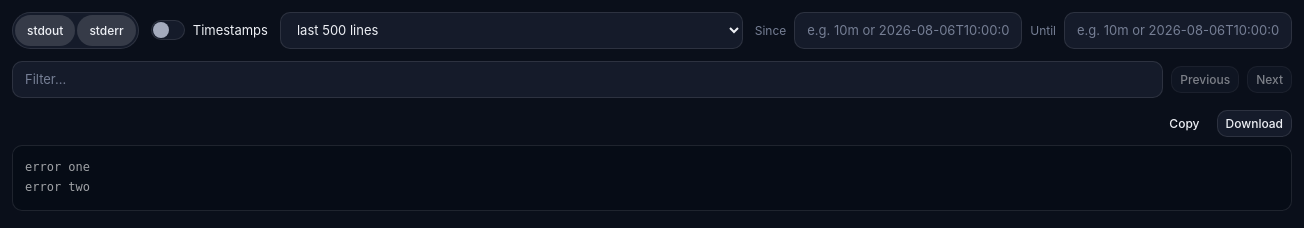
Test: ContainerLogsView (REQ-30, REQ-31) › moves the current match with next and previous
Expected: the text "error one" is shown, [25,160,90,174]
Type "error" into the field named "Search the stream" at (588, 79), box [12,61,1163,98]
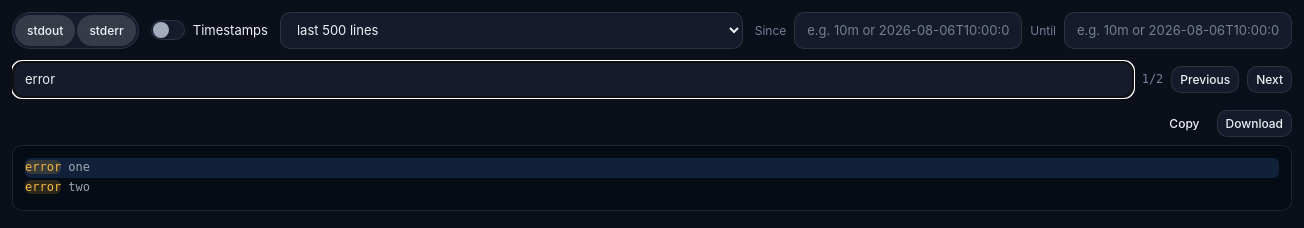
Expected: the text "1/2" is shown, [1142,71,1163,88]
Click the button "Next" at (1270, 79), box [1247,66,1292,93]
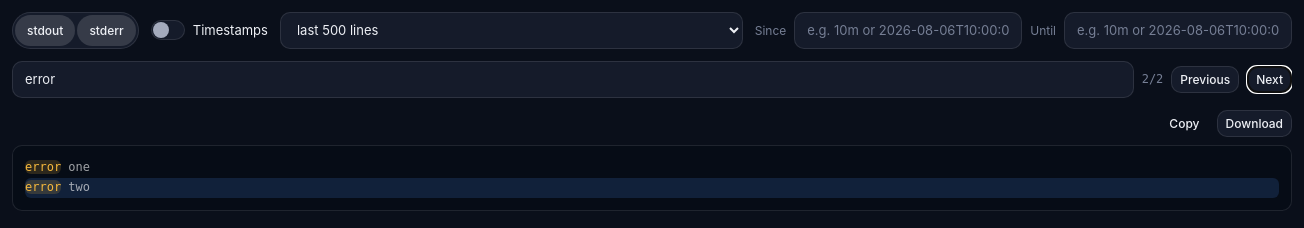
Expected: the text "2/2" is shown, [1142,71,1163,88]
Click the button "Previous" at (1205, 79), box [1171,66,1239,93]
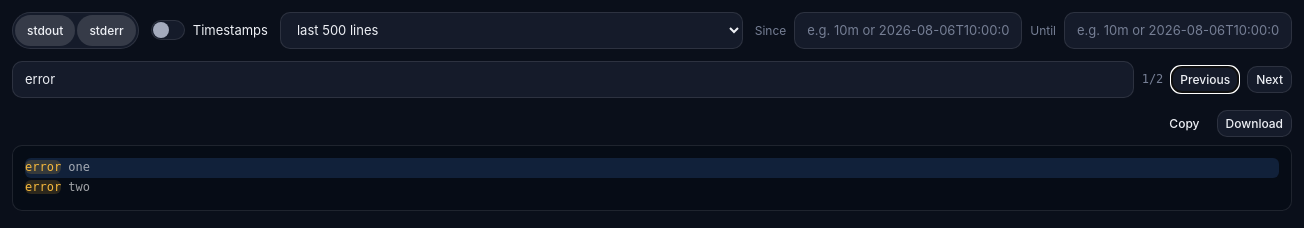
Expected: the text "1/2" is shown, [1142,71,1163,88]
